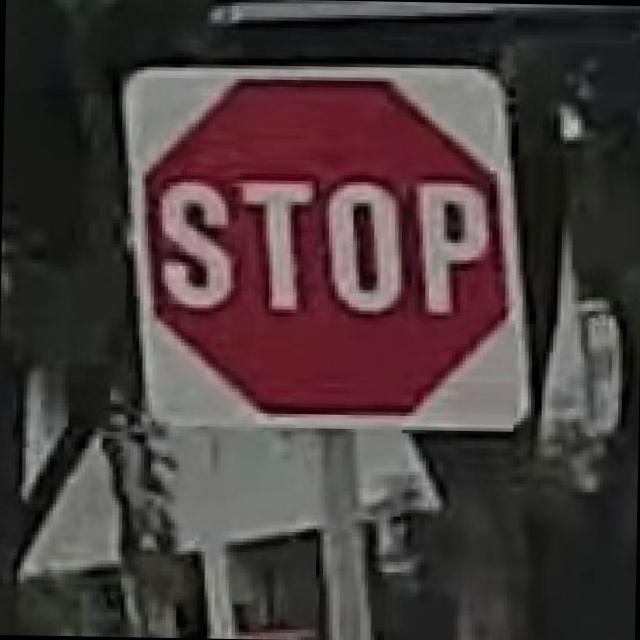mandatorystop_sign: (110, 52, 540, 438)
